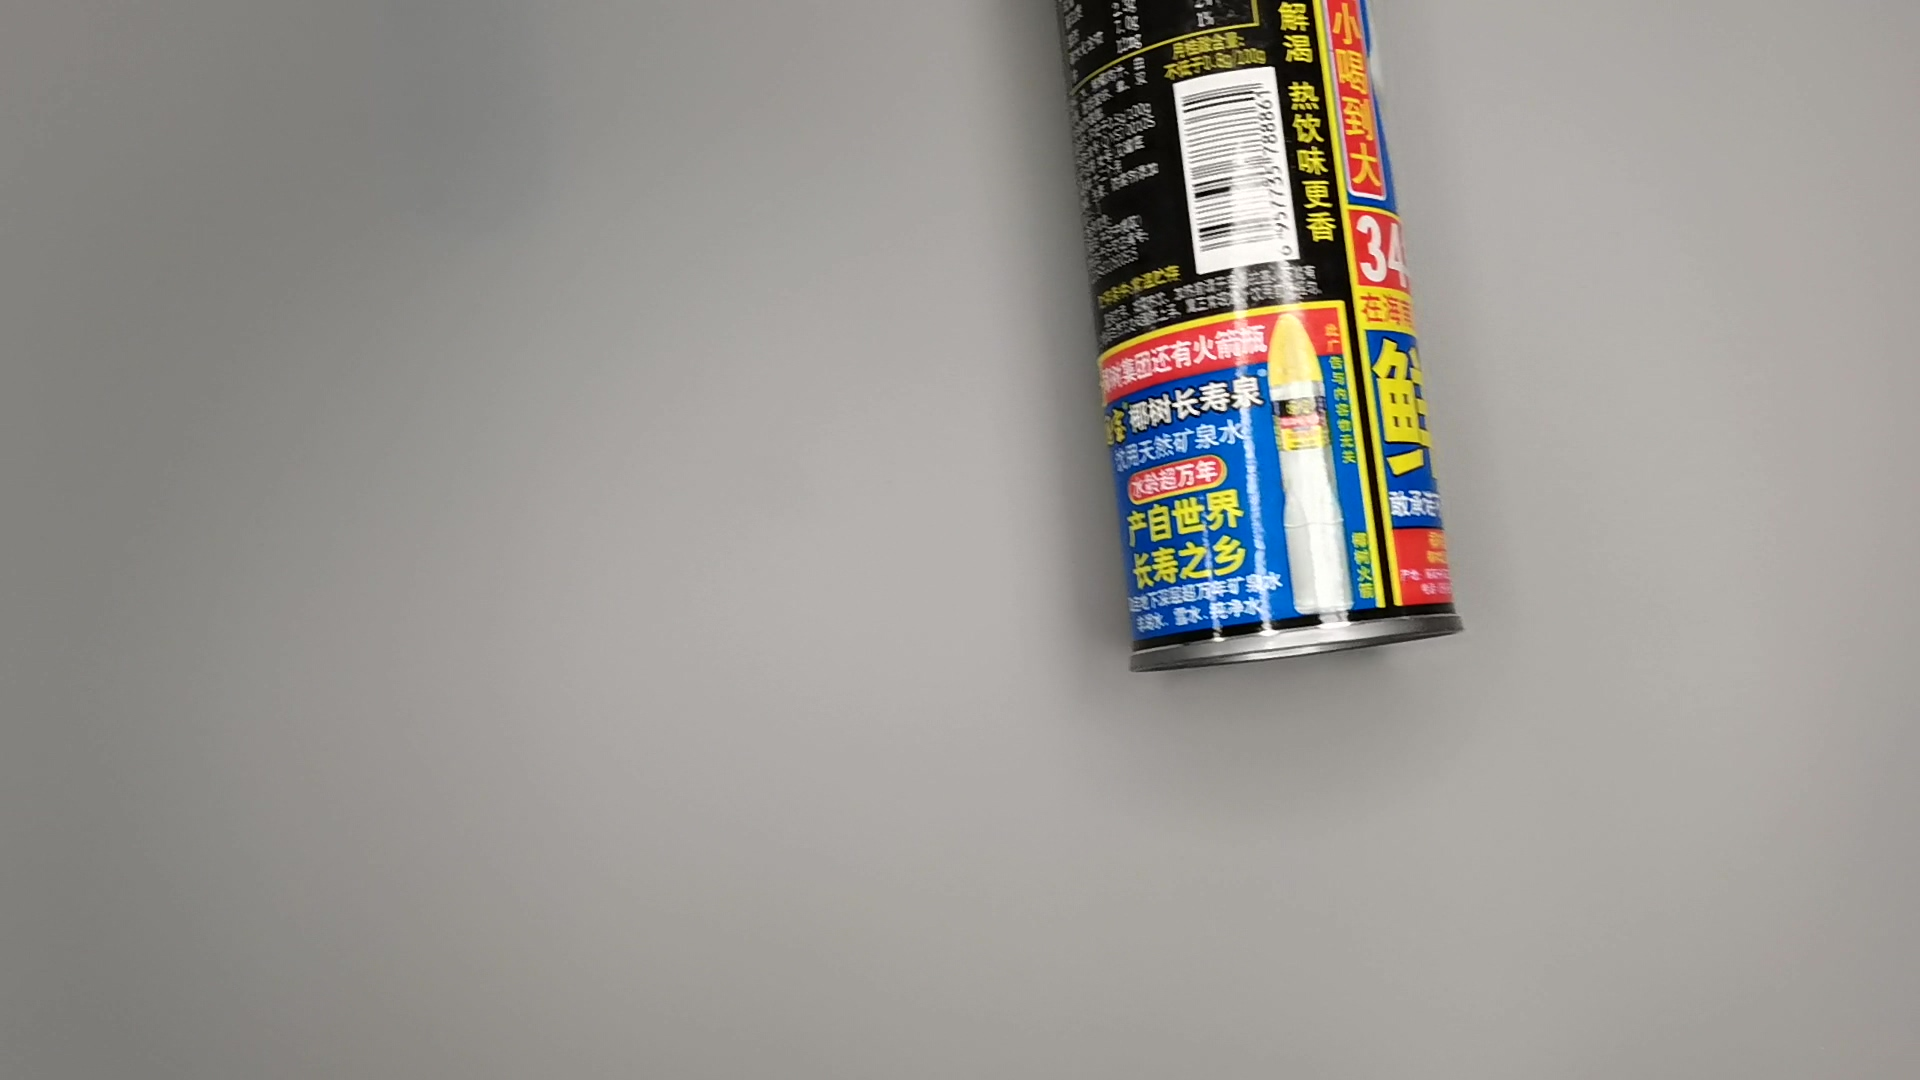can: (1052, 1, 1484, 688)
